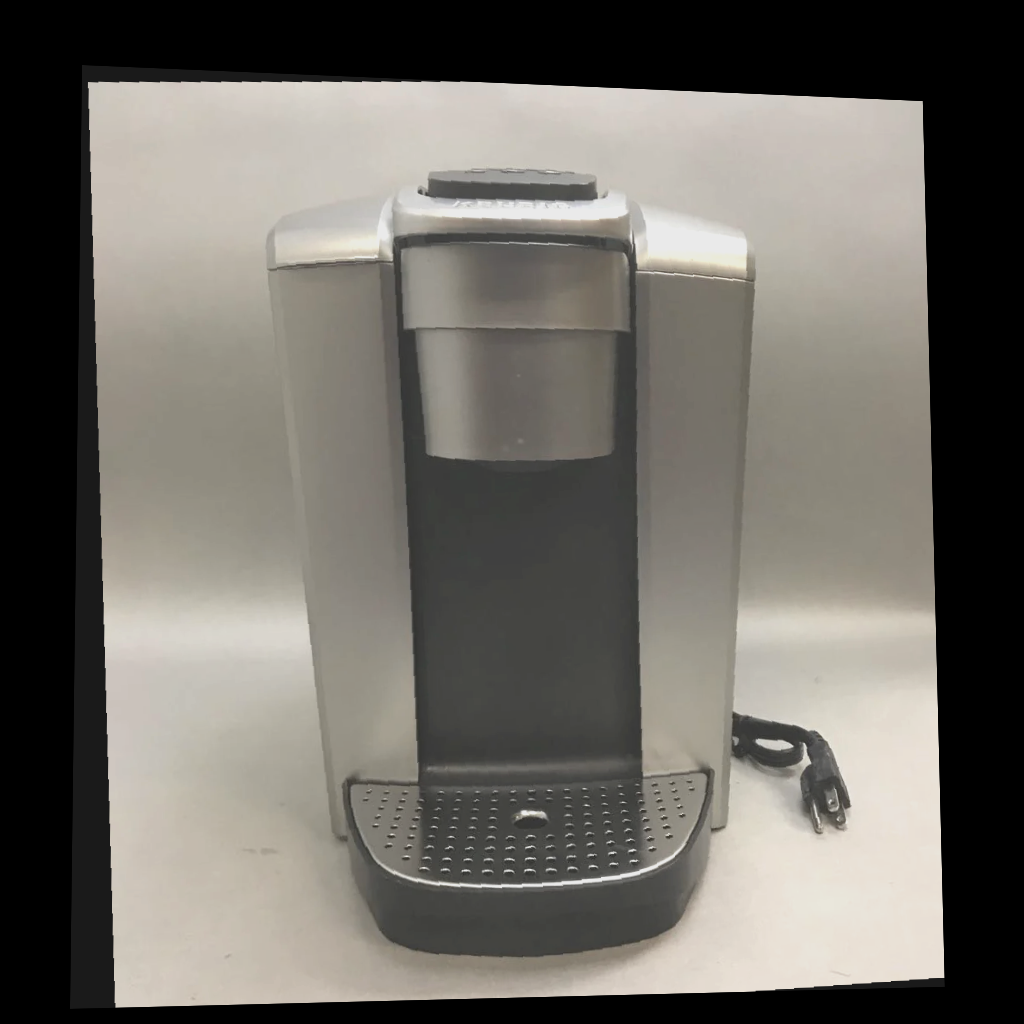platform: (509, 805, 553, 833)
